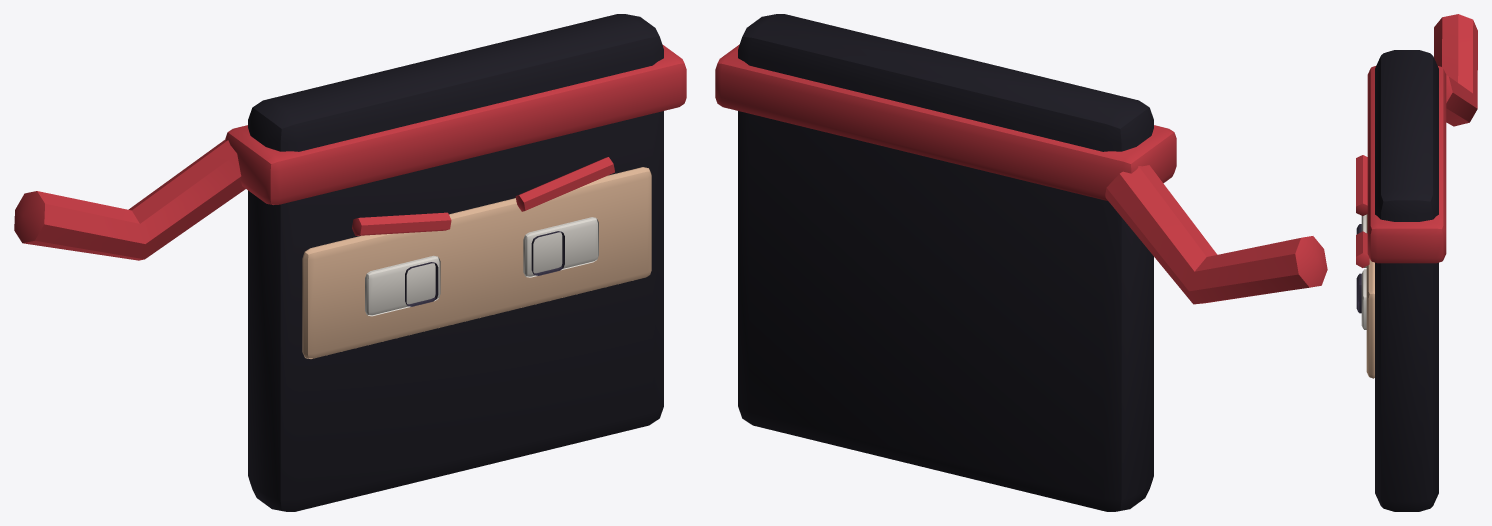
Rendered from Ninja_Head.fbx.
The picture shows the model from 3 angles, left to right: view 1: azimuth 30°, elevation 25°; view 2: azimuth 150°, elevation 25°; view 3: azimuth 270°, elevation 25°; orthographic projection. The views are drawn at different scales.
Visible parts, largest first — view 1: Ninja_Head; view 2: Ninja_Head; view 3: Ninja_Head.
Boxes of the visible parts, bbox=[...] form: Ninja_Head: bbox=[14, 14, 686, 511]; Ninja_Head: bbox=[715, 14, 1327, 511]; Ninja_Head: bbox=[1356, 14, 1477, 511].
Bounding box in the file's own units: 0.2333 × 0.145 × 0.0497.
